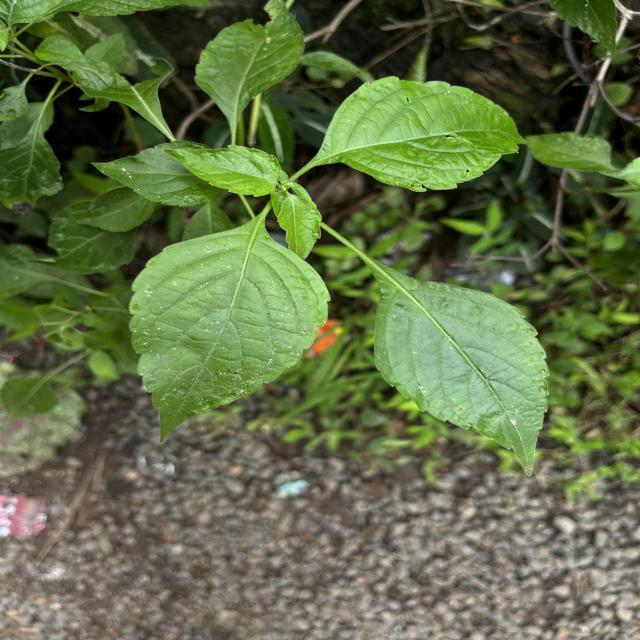Ocimum gratissimum: (124, 205, 333, 444), (348, 245, 554, 483), (304, 73, 532, 197), (192, 2, 306, 137), (154, 142, 286, 202)
